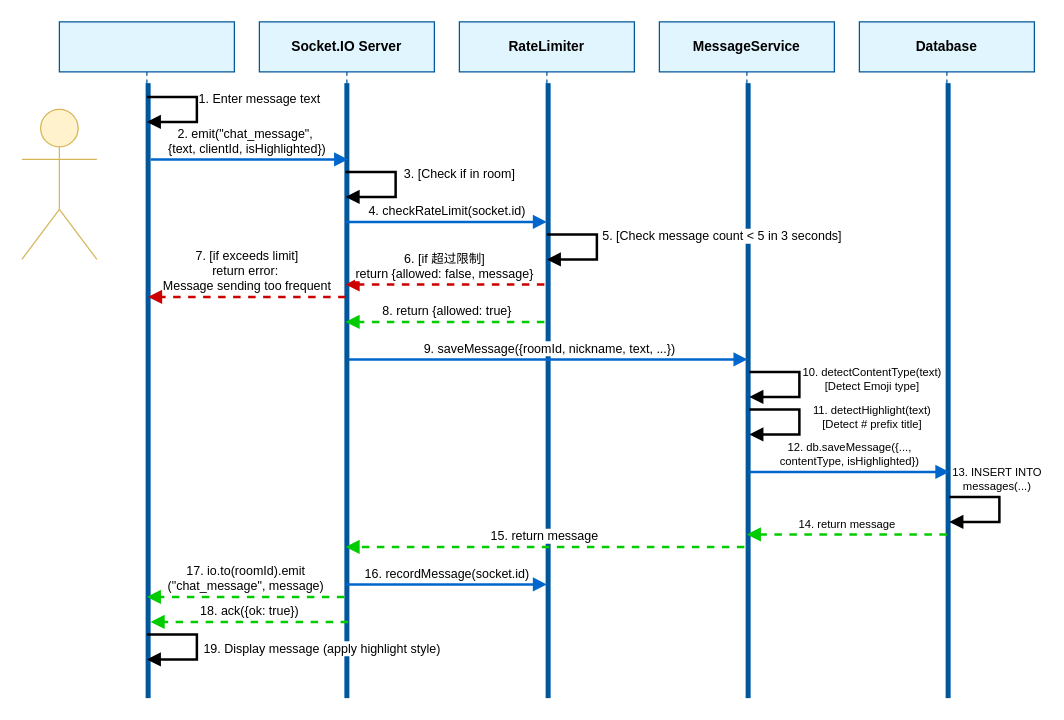
The diagram is 1064 pixels wide and 720 high, and some of its shapes have lost their labels. Each missing label, with the centre of its shape:
Browser Client: the point at 146,52
User: the point at 59,183
